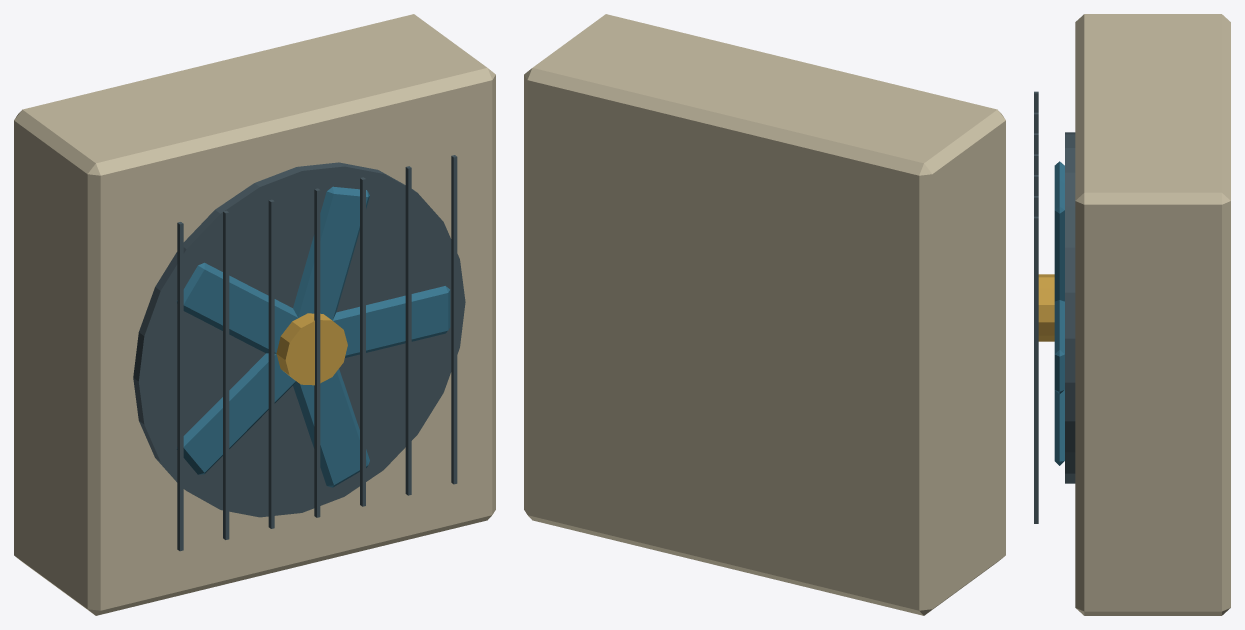
Rendered from ventilation_fan.glb.
3 views of the same model, side by side, from view 1: azimuth 30°, elevation 25°; view 2: azimuth 150°, elevation 25°; view 3: azimuth 270°, elevation 25° (orthographic). The views are drawn at different scales.
Parts seen in each view (by area): view 1: ventilation_fan; view 2: ventilation_fan; view 3: ventilation_fan.
Boxes of the visible parts, <box> form: ventilation_fan: <box>14,14,495,615</box>; ventilation_fan: <box>524,14,1005,615</box>; ventilation_fan: <box>1034,14,1230,615</box>.
Size of the model in its own units: 1.7 by 1.8 by 0.759.
